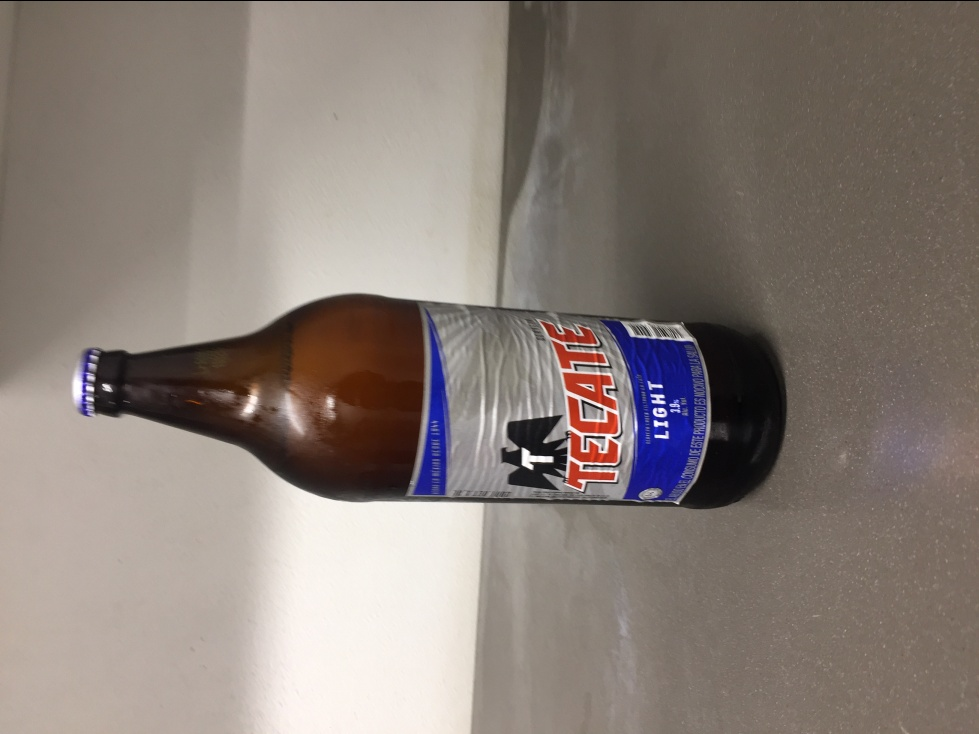tecateC: (72, 286, 788, 516)
